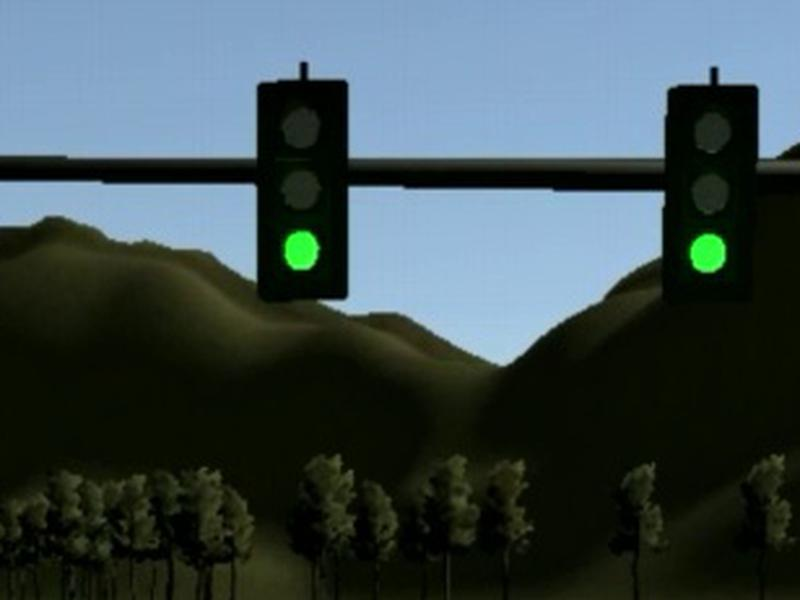Green: (255, 79, 352, 304), (662, 83, 759, 299)
